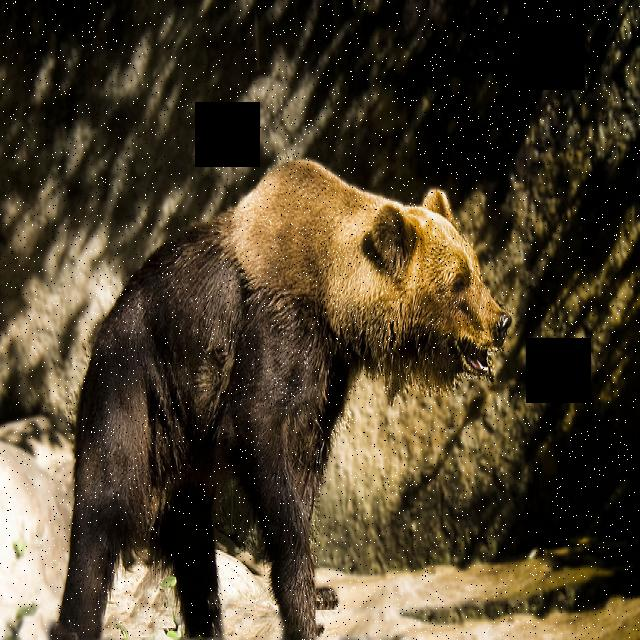Bear: (53, 150, 514, 640)
